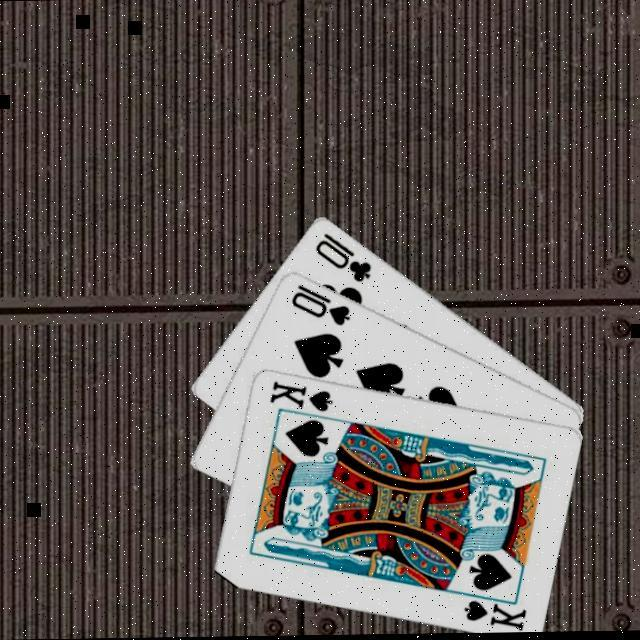10C: (313, 231, 377, 288)
10S: (289, 282, 355, 331)
KS: (460, 590, 531, 635), (268, 378, 338, 417)
